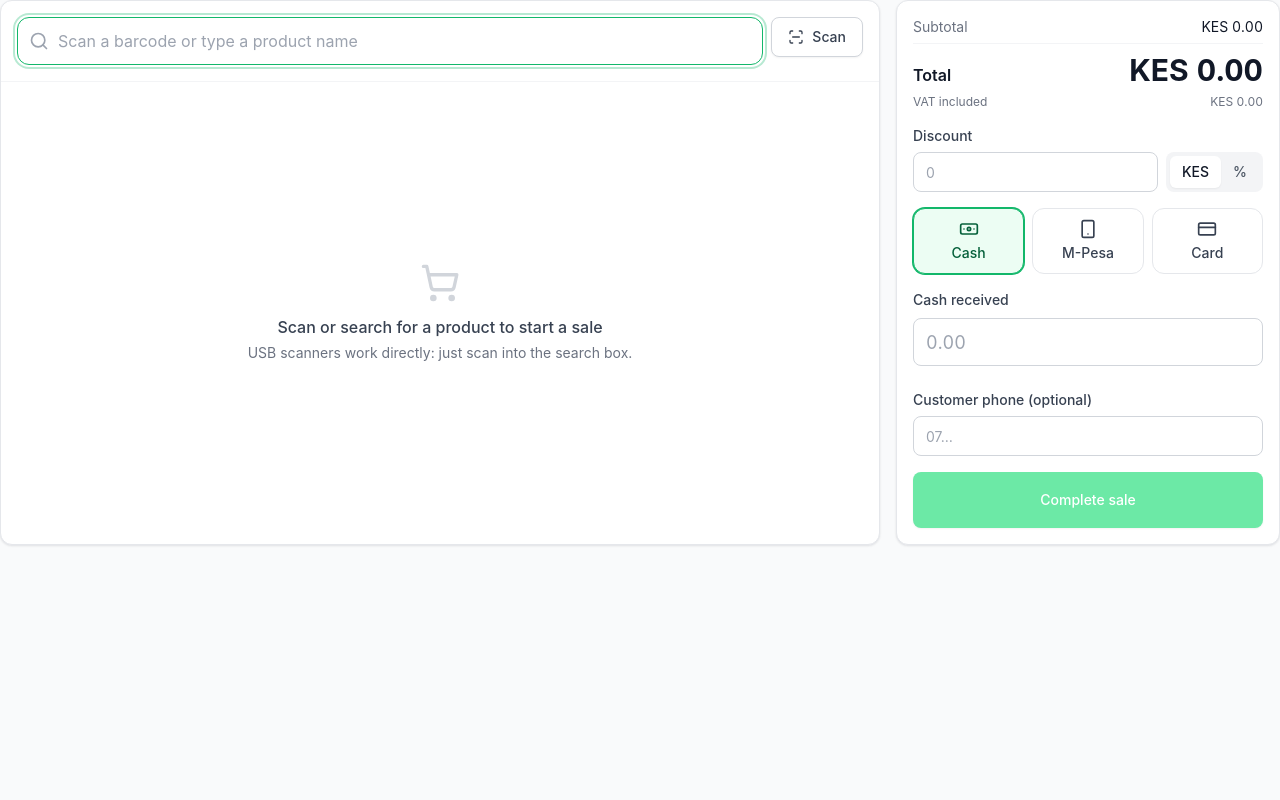
Test: PosPage › submits one request id with the cart and shows the receipt
Type "2000000000015" into the dropdown named "Find product".
click(390, 41); type("2000000000015")  # box x1=17 y1=17 x2=763 y2=65
Then press Enter
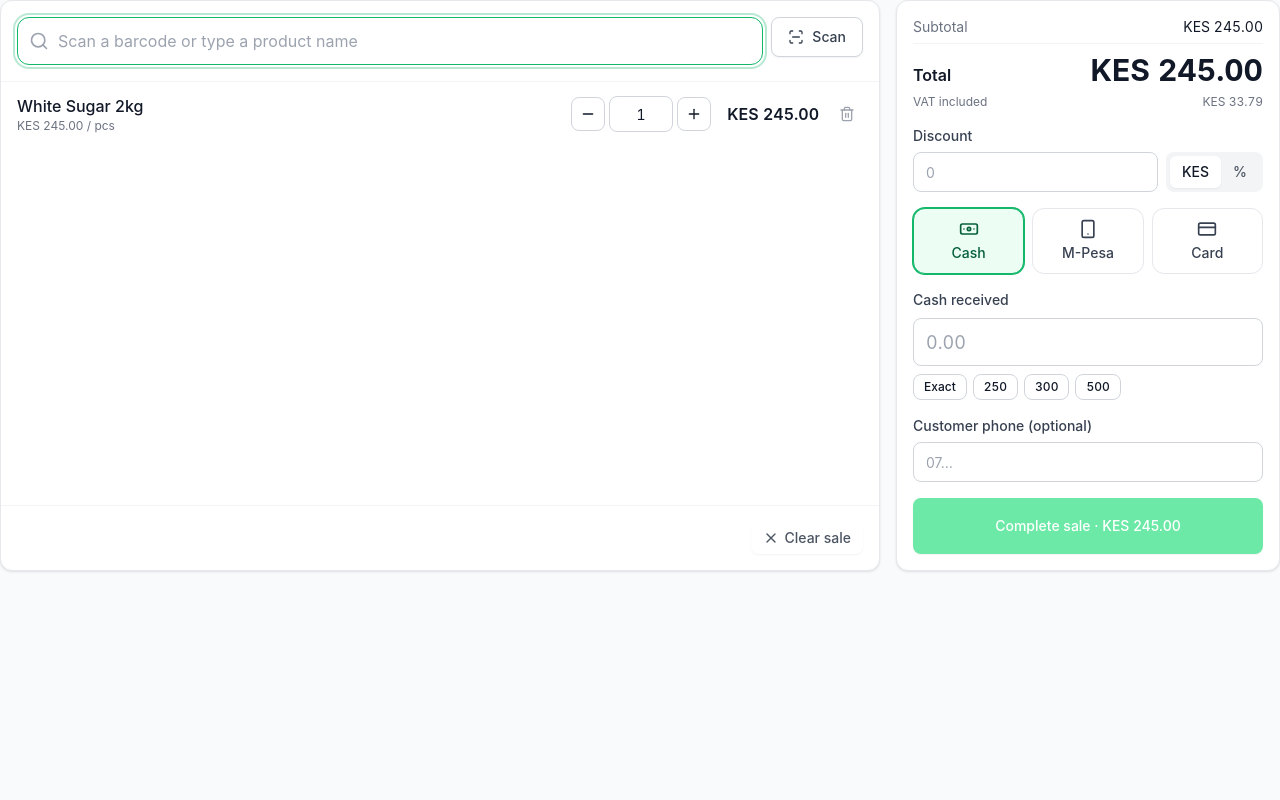
Type "300" into the field labelled "Cash received".
click(1088, 342); type("300")  # box x1=913 y1=318 x2=1263 y2=366
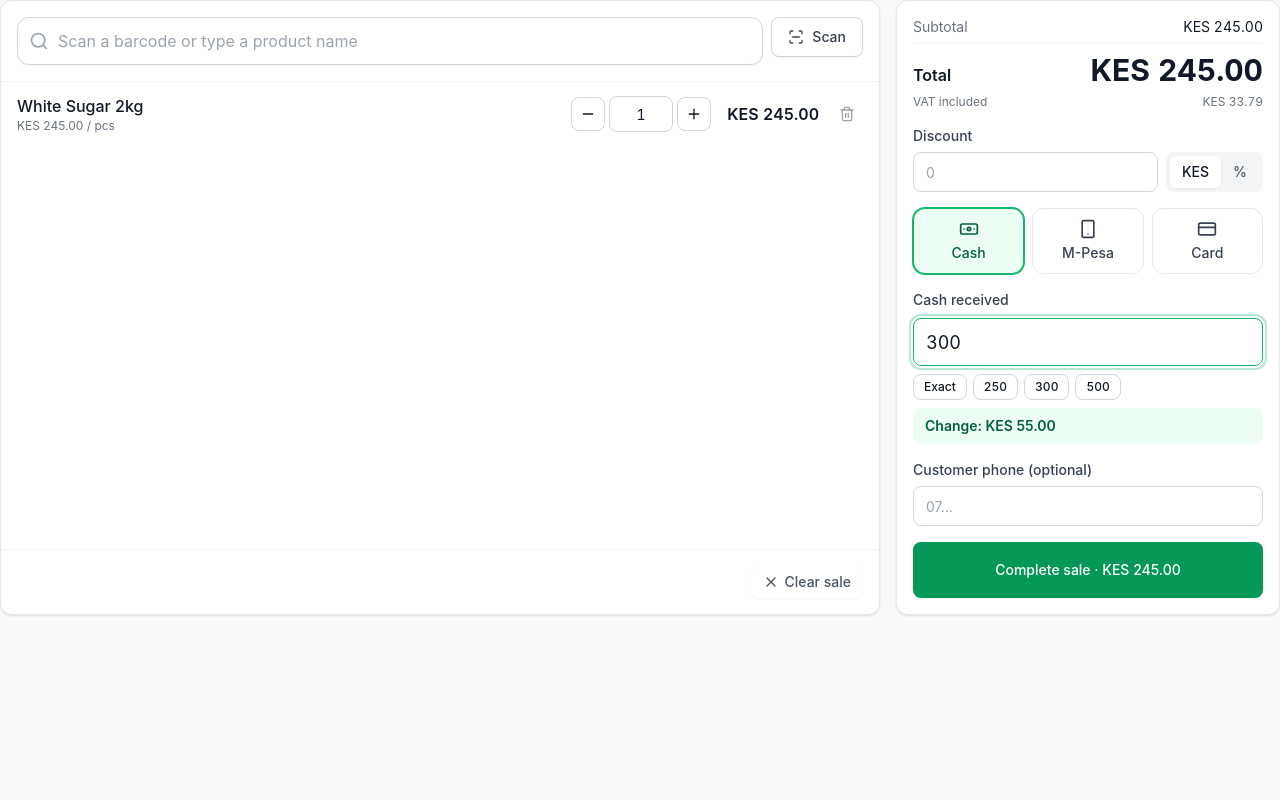
Click the button "Complete sale · KES 245.00".
click(1088, 570)  # box x1=913 y1=542 x2=1263 y2=598
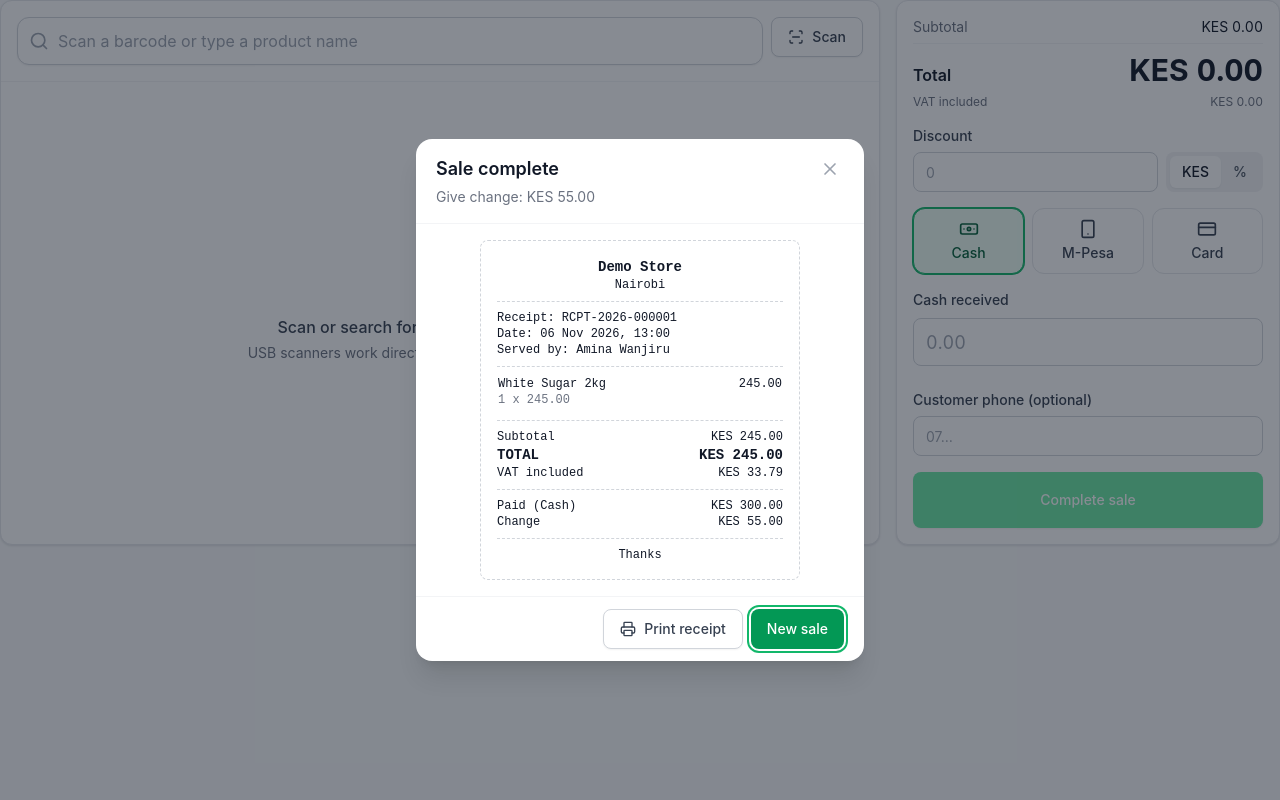
Now the text "Receipt: RCPT-2026-000001" is shown, box x1=497 y1=311 x2=677 y2=325
Now the text "Give change: KES 55.00" is shown, box x1=436 y1=187 x2=595 y2=207
